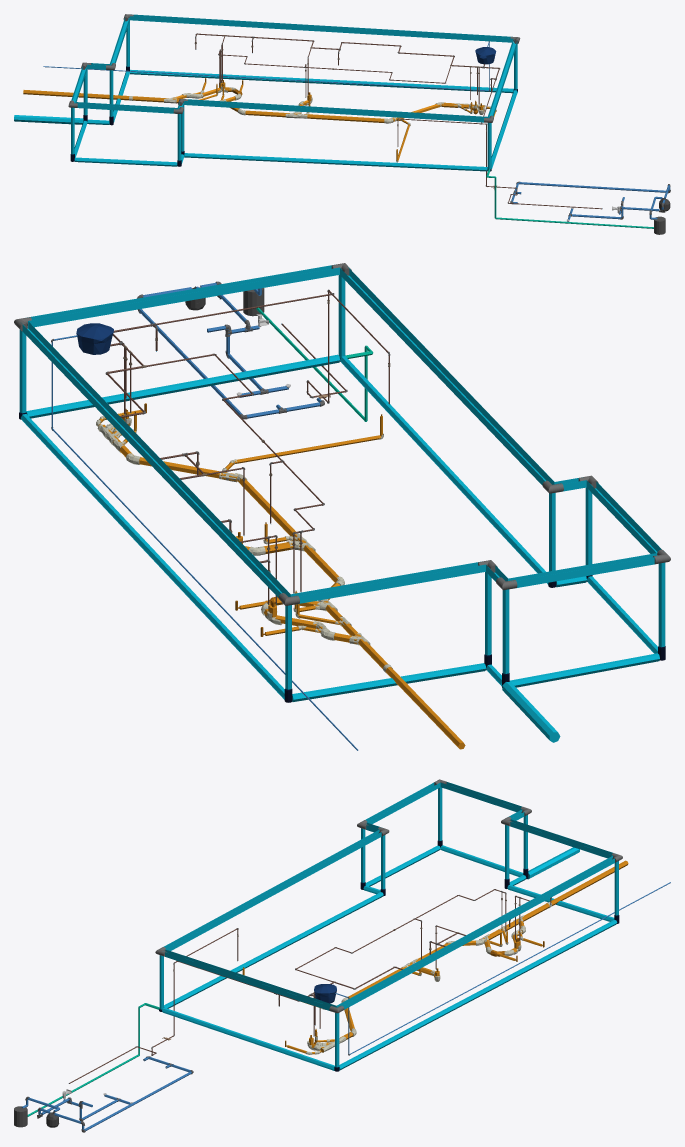
File: hidro-casa.glb
3 renders of one model, top to bottom at view 1: azimuth 30°, elevation 25°; view 2: azimuth 150°, elevation 25°; view 3: azimuth 270°, elevation 25°, orthographic. The views are drawn at different scales.
Visible parts, largest first — view 1: pluvial, agua-fria, esgoto; view 2: pluvial, esgoto, agua-fria; view 3: pluvial, agua-fria, esgoto.
Part boxes in pixels (x1=…): pluvial: x1=14, y1=14, x2=520, y2=171; agua-fria: x1=43, y1=33, x2=670, y2=221; esgoto: x1=23, y1=78, x2=665, y2=234; pluvial: x1=14, y1=263, x2=670, y2=742; esgoto: x1=96, y1=288, x2=465, y2=749; agua-fria: x1=51, y1=281, x2=390, y2=750; pluvial: x1=155, y1=779, x2=622, y2=1071; agua-fria: x1=21, y1=882, x2=670, y2=1132; esgoto: x1=14, y1=860, x2=628, y2=1127.
Size of the model in its own units: 35.38 by 7.65 by 38.53.
